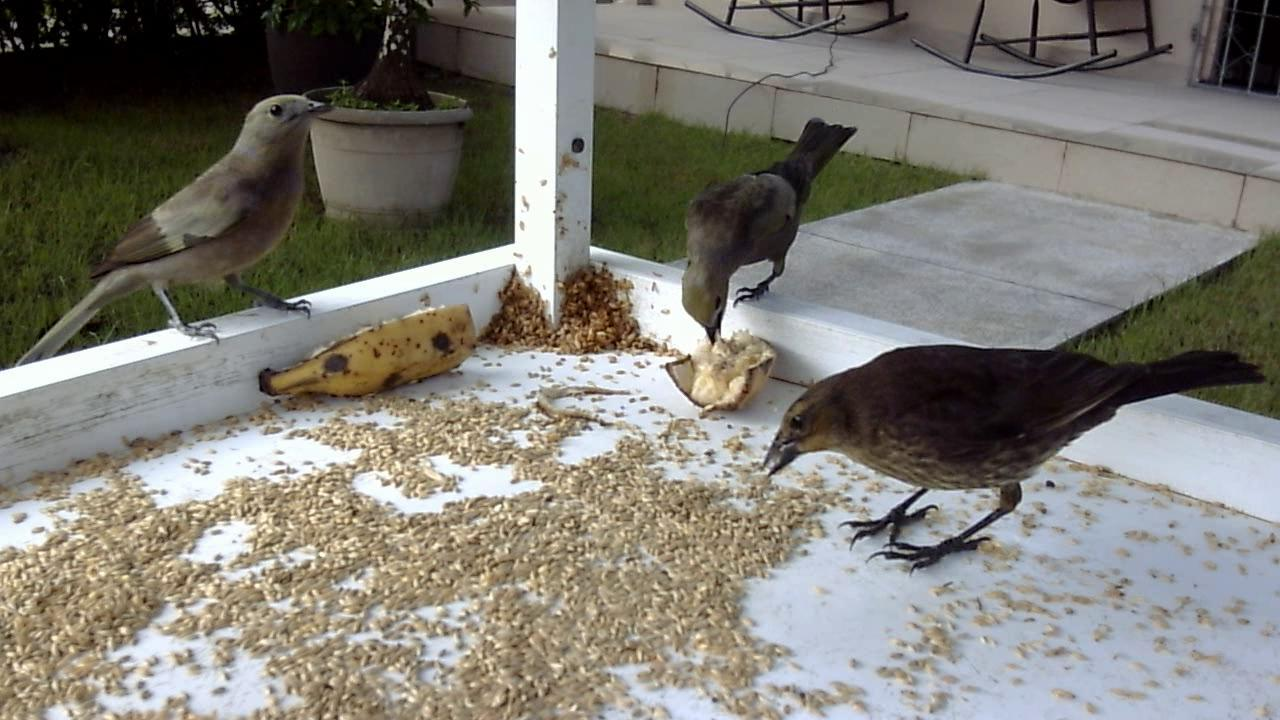chupim: (748, 299, 1267, 598), (660, 111, 870, 357)
sanhaco_do_coqueiro: (15, 96, 340, 370)
